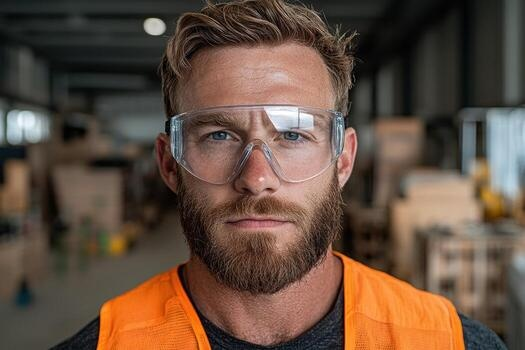safety_goggles: (131, 105, 392, 184)
